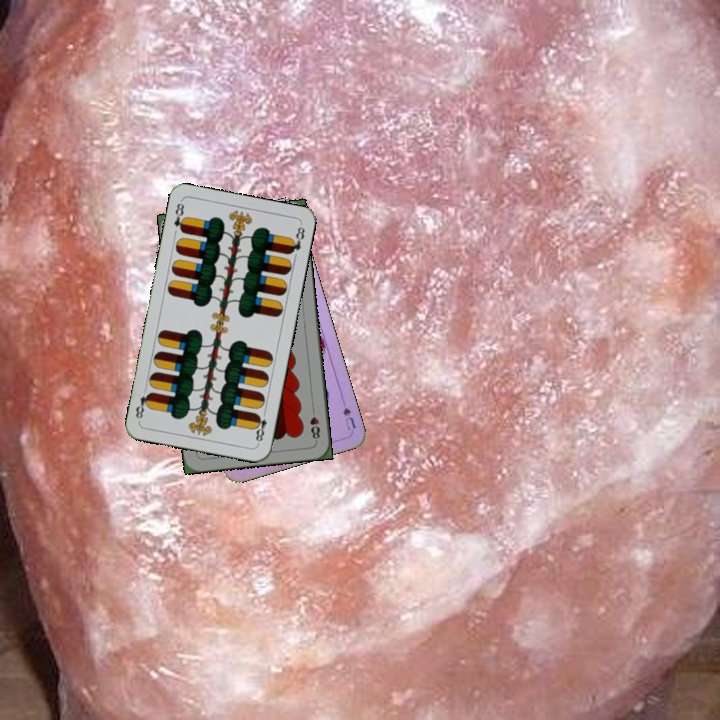E8: (251, 406, 269, 446), (170, 199, 189, 236)
H8: (306, 403, 322, 444)
SU: (339, 404, 358, 433)
